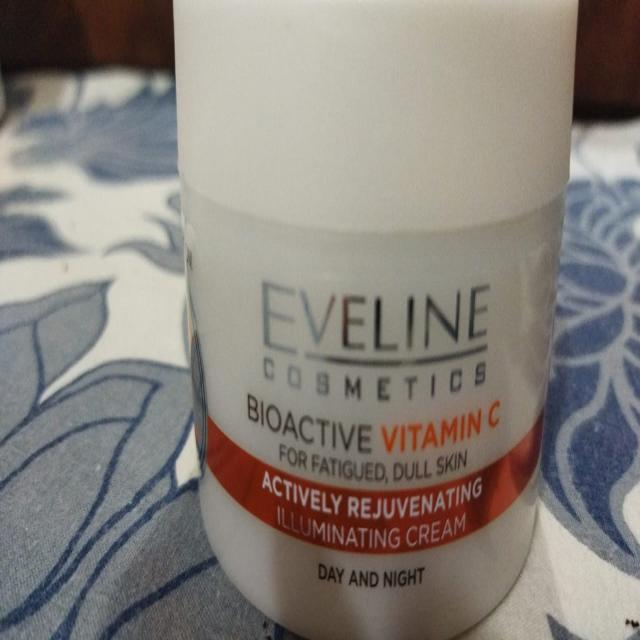lotion: (156, 0, 586, 640)
